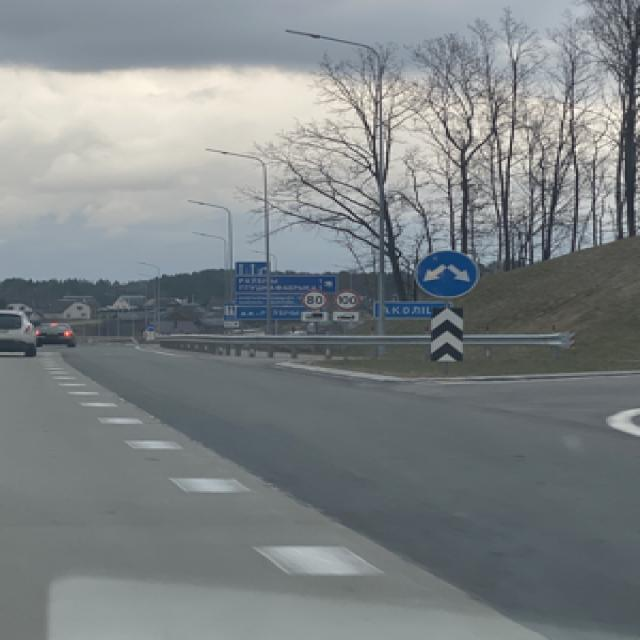speedlimit: (299, 288, 324, 307), (333, 291, 356, 309)
